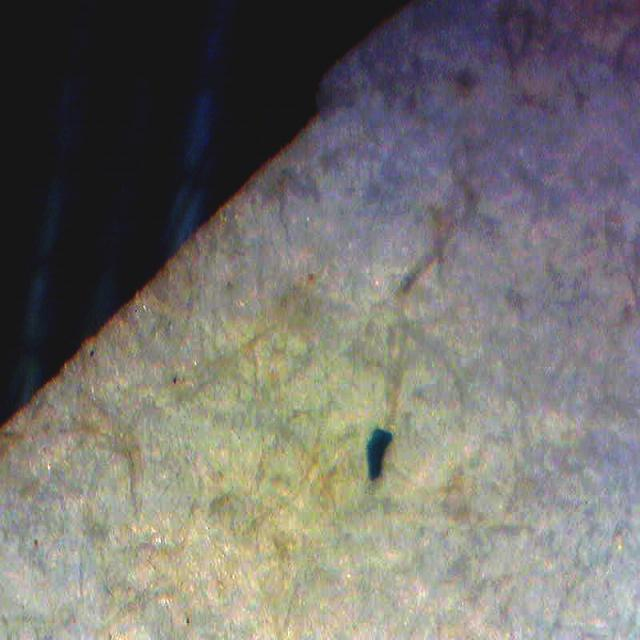microplastic: (365, 427, 395, 479)
